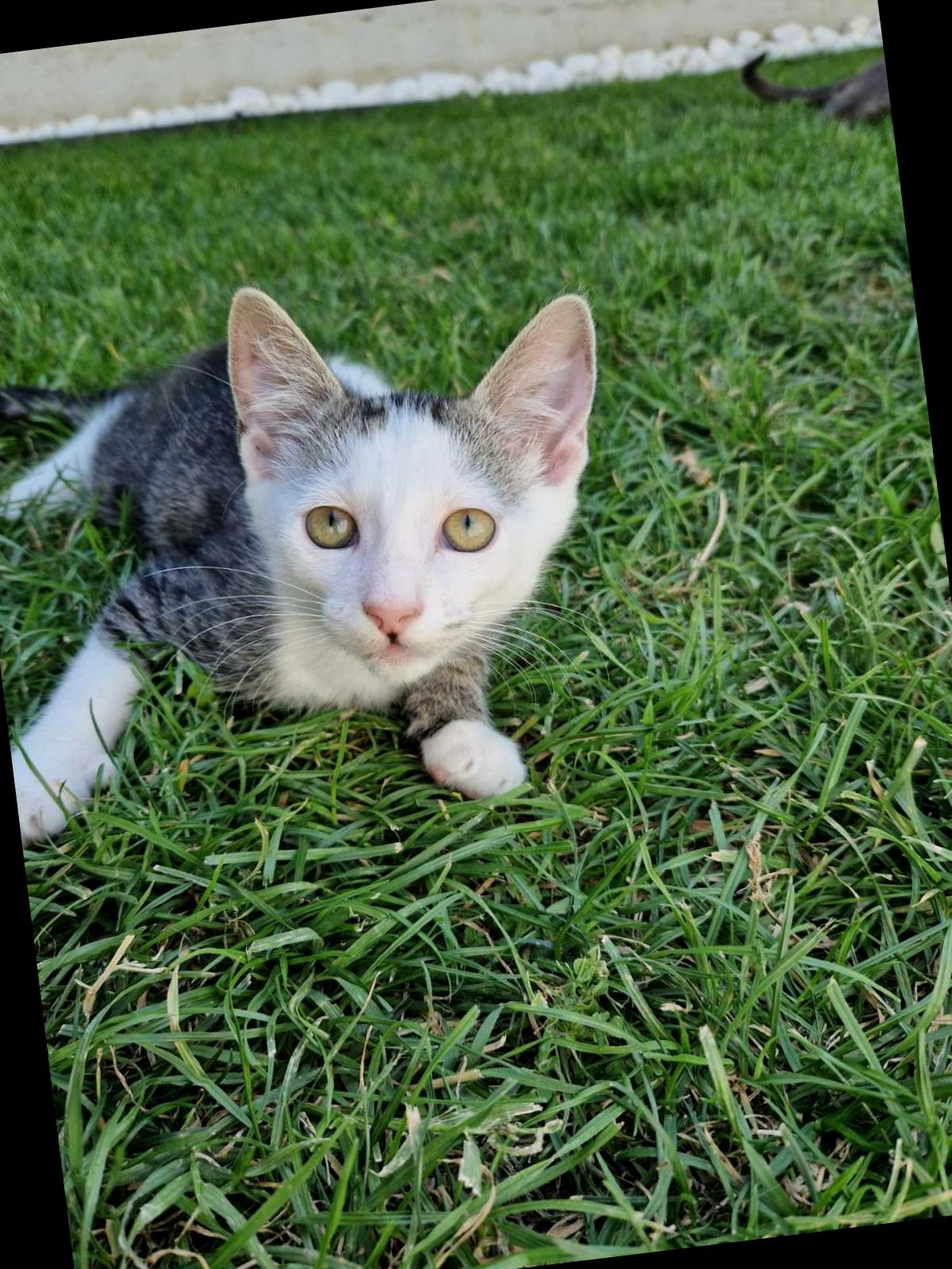macka: (0, 239, 651, 868)
